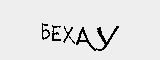А: (78, 27, 99, 50)
Б: (39, 23, 49, 39)
Е: (51, 24, 61, 42)
У: (98, 26, 118, 50)
Х: (63, 24, 76, 46)
